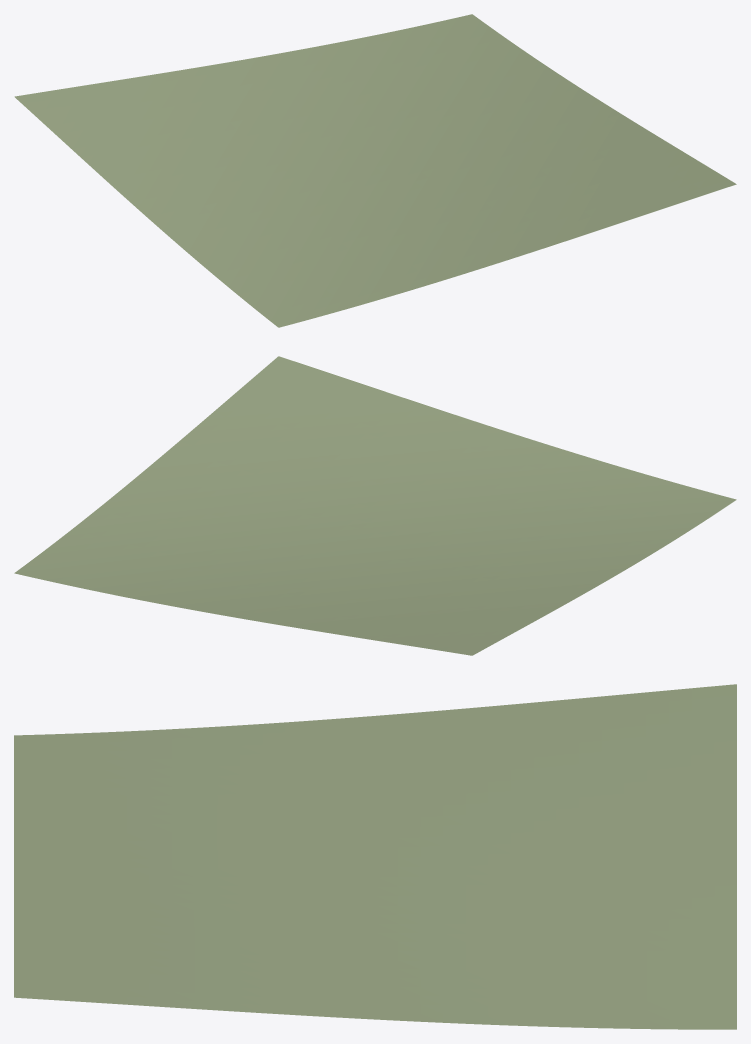
Rendered from alpine-3-12.glb.
3 views of the same model, one above another, from view 1: azimuth 30°, elevation 25°; view 2: azimuth 150°, elevation 25°; view 3: azimuth 270°, elevation 25° (orthographic). The views are drawn at different scales.
Parts seen in each view (by area): view 1: alpine-3-12; view 2: alpine-3-12; view 3: alpine-3-12.
Part boxes in pixels (x1=…): alpine-3-12: x1=14, y1=14, x2=736, y2=327; alpine-3-12: x1=14, y1=356, x2=736, y2=655; alpine-3-12: x1=14, y1=684, x2=736, y2=1029.
Bounding box in the file's own units: 256 × 20.01 × 256.
